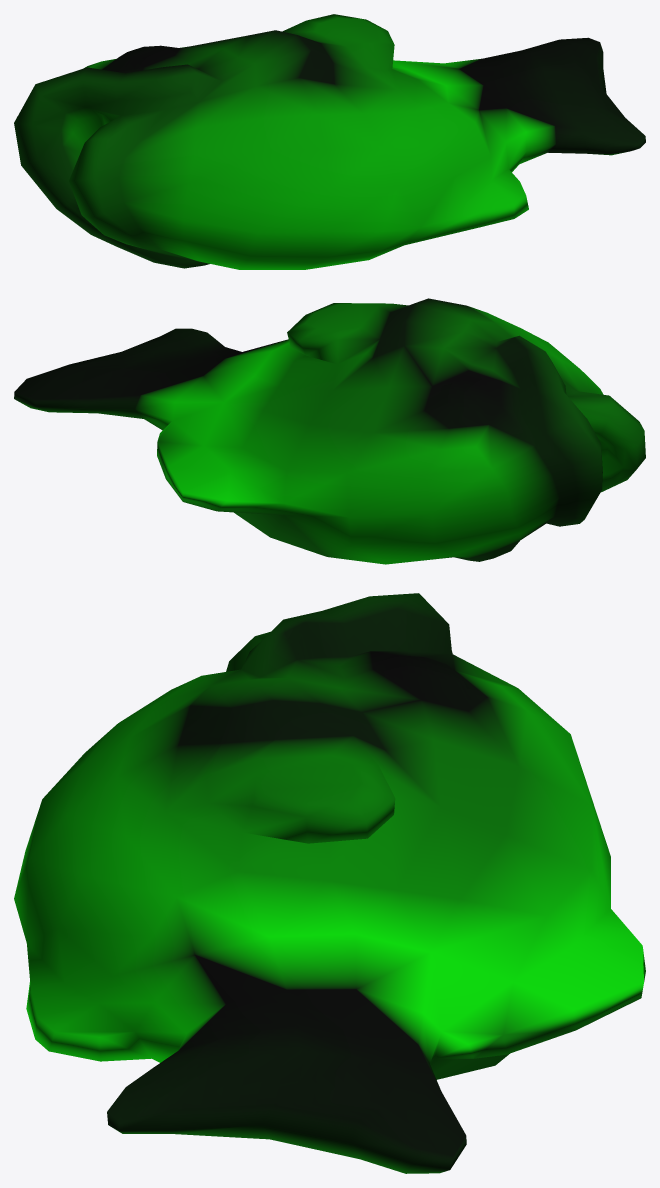
Rendered from fishAI_sk.fbx.
The picture shows the model from 3 angles, top to bottom: view 1: azimuth 30°, elevation 25°; view 2: azimuth 150°, elevation 25°; view 3: azimuth 270°, elevation 25°; orthographic projection. The views are drawn at different scales.
Parts seen in each view (by area): view 1: fishAI_rig:fish_low; view 2: fishAI_rig:fish_low; view 3: fishAI_rig:fish_low.
Part boxes in pixels (x1,y1,x2,y2): fishAI_rig:fish_low: (14, 14, 645, 269); fishAI_rig:fish_low: (14, 298, 645, 564); fishAI_rig:fish_low: (14, 593, 645, 1173).
Size of the model in its own units: 0.9475 by 0.3316 by 0.5861.
